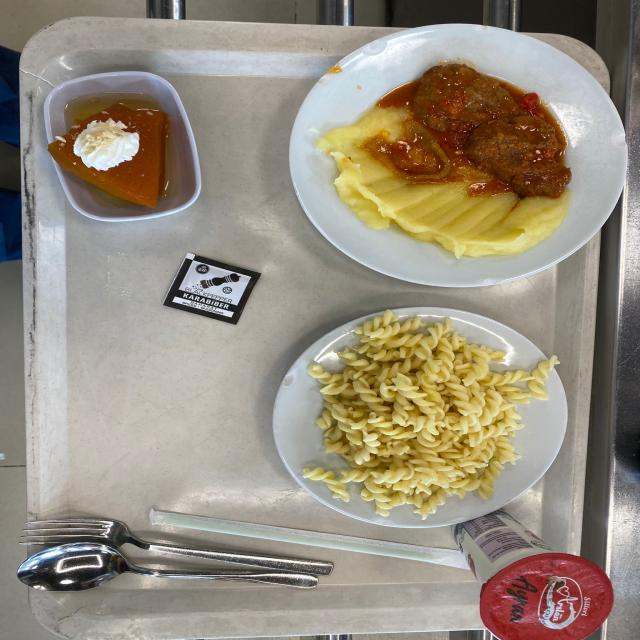ana_yemek: (310, 40, 614, 299), (275, 333, 531, 529)
yan_yemek: (57, 74, 196, 217)
